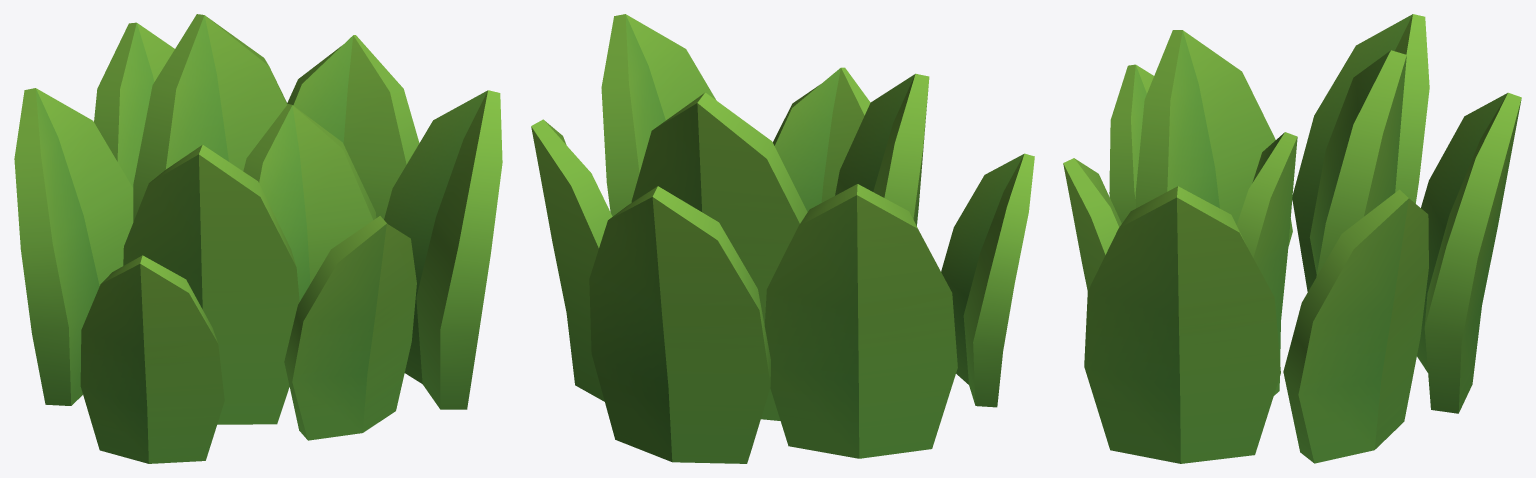
Rendered from Grass_1_C_Color1.gltf.
3 renders of one model, left to right at view 1: azimuth 30°, elevation 25°; view 2: azimuth 150°, elevation 25°; view 3: azimuth 270°, elevation 25°, orthographic. The views are drawn at different scales.
Parts seen in each view (by area): view 1: Grass_1_C_Color1; view 2: Grass_1_C_Color1; view 3: Grass_1_C_Color1.
Boxes of the visible parts, x1,y1,x2,y2 form: Grass_1_C_Color1: (14,14,502,463); Grass_1_C_Color1: (531,14,1034,463); Grass_1_C_Color1: (1063,14,1521,463).
Size of the model in its own units: 0.7518 by 0.5834 by 0.7171.
Materials: 1 (1 with a texture image).
